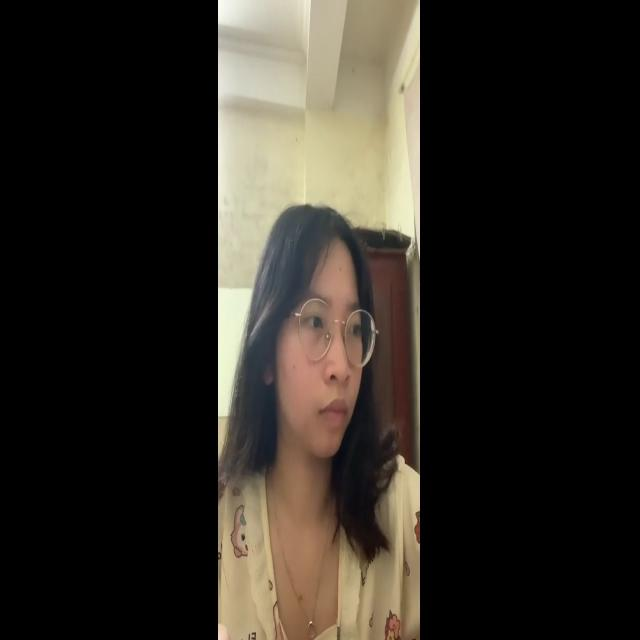student: (238, 198, 413, 638)
